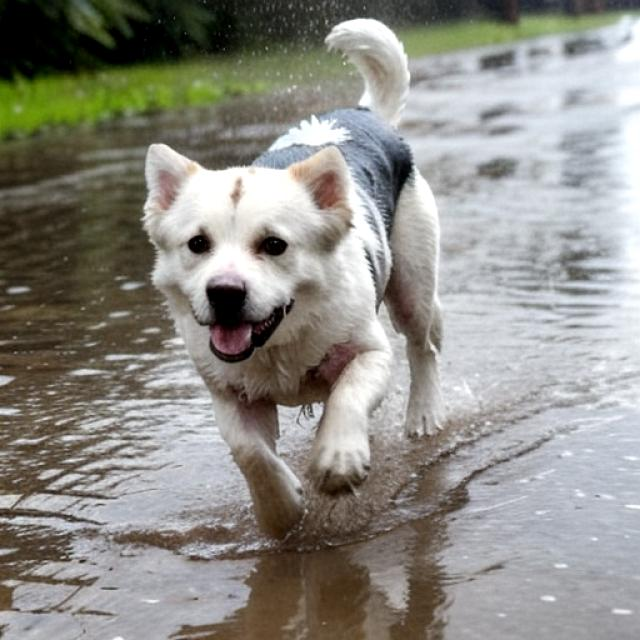dog: (113, 8, 478, 541)
